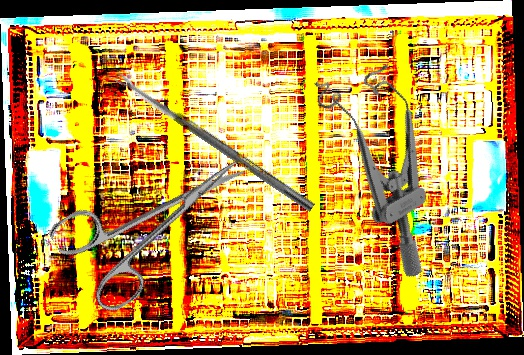Iris Scissors: (46, 124, 271, 320)
Speculum: (297, 46, 488, 280)
Surgical Spoon: (114, 70, 316, 213)
